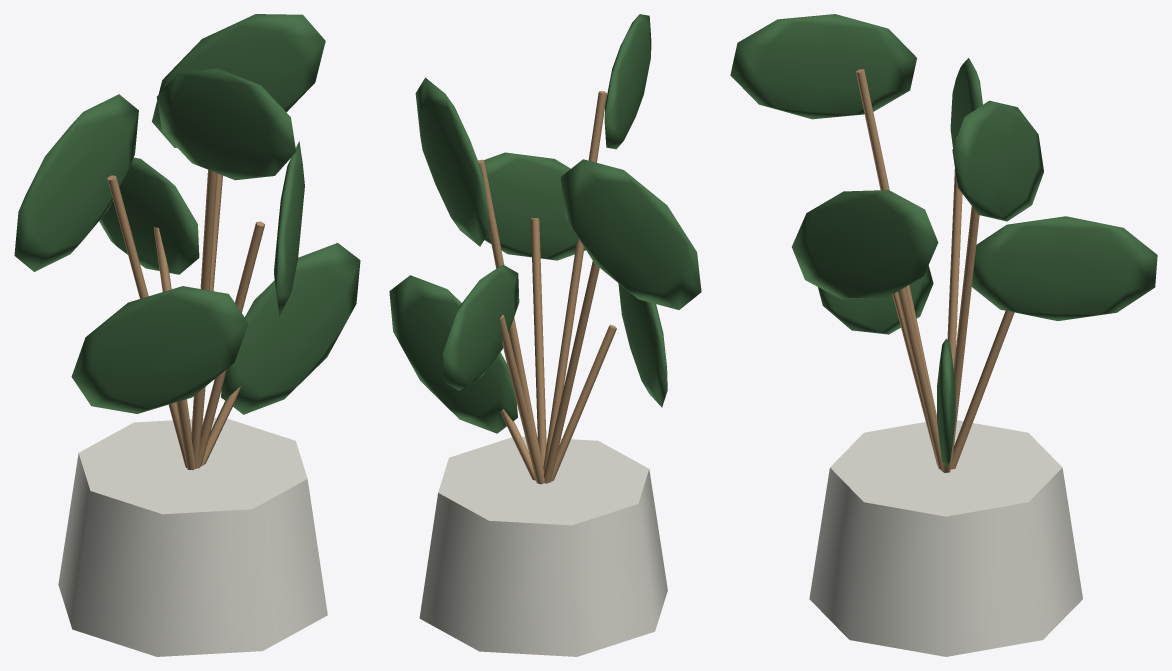
File: plant-2.glb
3 views of the same model, side by side, from view 1: azimuth 30°, elevation 25°; view 2: azimuth 150°, elevation 25°; view 3: azimuth 270°, elevation 25° (orthographic). The views are drawn at different scales.
Parts seen in each view (by area): view 1: plant:2:editor; view 2: plant:2:editor; view 3: plant:2:editor.
Part boxes in pixels (left/top/right/bottom): plant:2:editor: left=14, top=14, right=360, bottom=656; plant:2:editor: left=389, top=14, right=701, bottom=656; plant:2:editor: left=730, top=14, right=1157, bottom=656.
Bounding box in the file's own units: 0.4789 × 0.778 × 0.5276.
